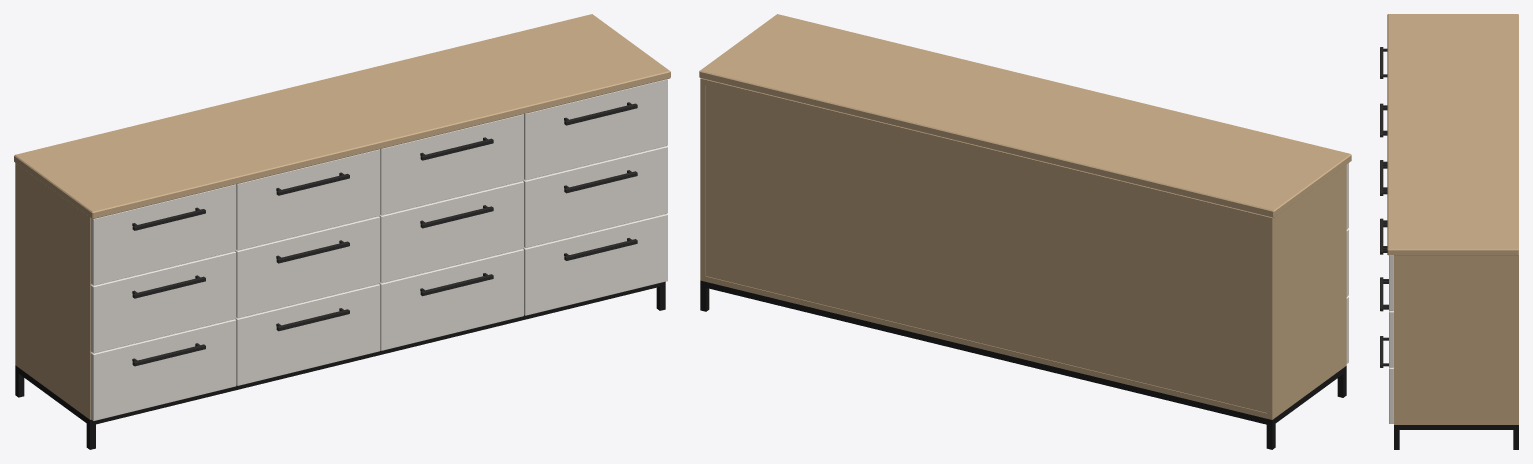
Rendered from 29_komoda_200_4x3.glb.
The picture shows the model from 3 angles, left to right: view 1: azimuth 30°, elevation 25°; view 2: azimuth 150°, elevation 25°; view 3: azimuth 270°, elevation 25°; orthographic projection. The views are drawn at different scales.
Parts seen in each view (by area): view 1: Wierzch, Korpus, Front_szuflada_2, Front_szuflada_3, Front_szuflada_5, Front_szuflada_6, Front_szuflada_1, Front_szuflada_9, Front_szuflada_12, Front_szuflada_8, Front_szuflada_11, Front_szuflada_4 (+4 smaller); view 2: Korpus, Wierzch, Rama; view 3: Wierzch, Korpus, Uchwyty, Rama, Front_szuflada_11, Front_szuflada_12, Front_szuflada_10.
Part boxes in pixels (x1,y1,x2,y2): Wierzch: [14, 14, 670, 219]; Korpus: [15, 163, 91, 419]; Front_szuflada_2: [90, 251, 236, 353]; Front_szuflada_3: [90, 319, 236, 420]; Front_szuflada_5: [235, 216, 380, 318]; Front_szuflada_6: [235, 284, 380, 385]; Front_szuflada_1: [90, 184, 236, 285]; Front_szuflada_9: [379, 248, 523, 350]; Front_szuflada_12: [523, 213, 667, 315]; Front_szuflada_8: [379, 181, 523, 282]; Front_szuflada_11: [523, 146, 667, 247]; Front_szuflada_4: [236, 149, 380, 250]; Korpus: [700, 78, 1346, 419]; Wierzch: [699, 14, 1351, 217]; Rama: [700, 280, 1346, 449]; Wierzch: [1387, 14, 1518, 255]; Korpus: [1394, 255, 1518, 424]; Uchwyty: [1380, 47, 1388, 367]; Rama: [1394, 425, 1518, 449]; Front_szuflada_11: [1389, 311, 1393, 367]; Front_szuflada_12: [1389, 367, 1393, 423]; Front_szuflada_10: [1389, 255, 1393, 310].
Bounding box in the file's own units: 2.01 × 0.8 × 0.5.
